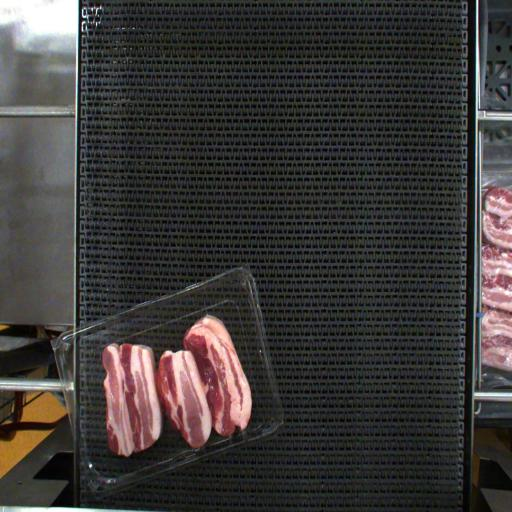packaging-error: (226, 428, 256, 450)
